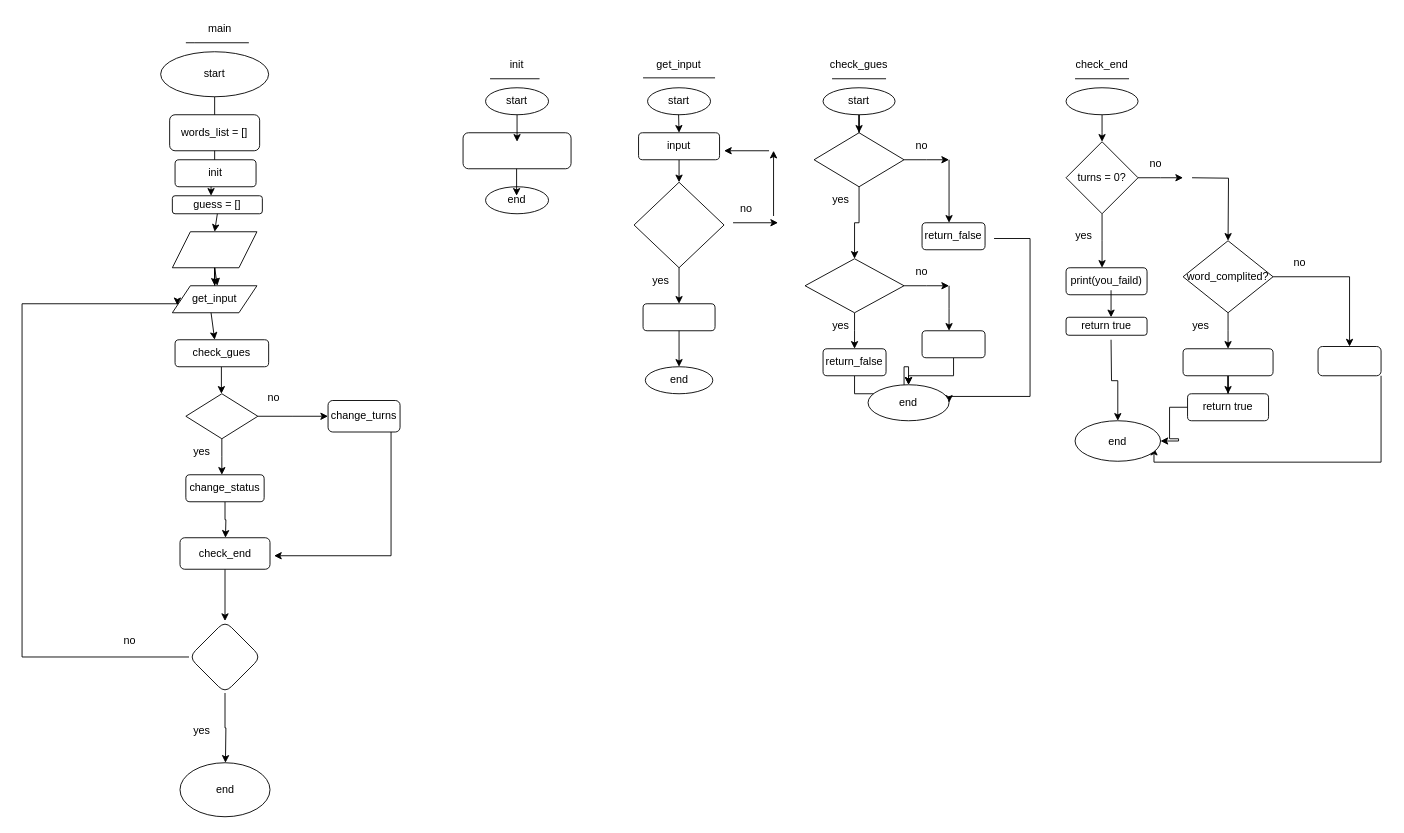
This 1404x833 diagram has some shape labels left out. The centre of each missing label's shape, as x and y in pixels:
"check end is true?" goes at (x=224, y=656).
"gues_in_guess?" goes at (x=854, y=285).
"gues_in_word?" goes at (x=858, y=159).
"is_alfha? is_one_letter?" goes at (x=678, y=224).
"print(rules)" goes at (x=214, y=249).
"print(well done)" goes at (x=1227, y=362).
"return false" goes at (x=1349, y=361).
"return input" goes at (x=678, y=317).
"return_random_word" goes at (x=516, y=150).
"return_true" goes at (x=953, y=344).
"stert" goes at (x=1101, y=101).
"true?" goes at (x=221, y=416).
